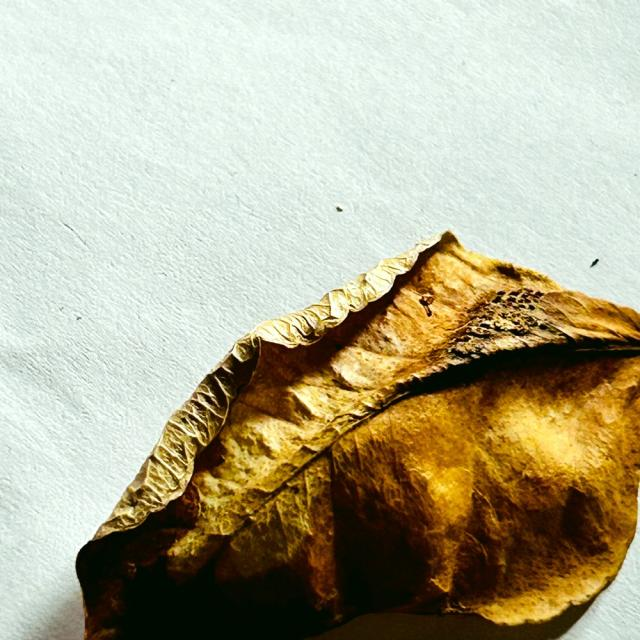DryLeaf_Lemon: (77, 233, 639, 639)
